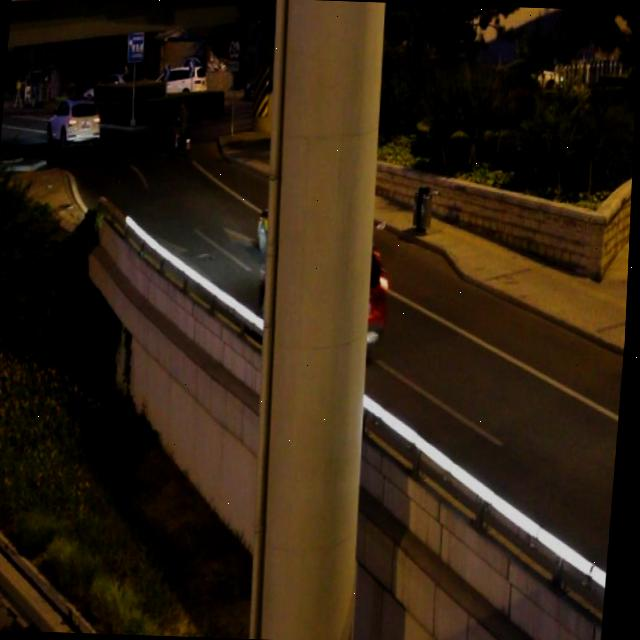car: (258, 224, 392, 352), (255, 178, 360, 273)
